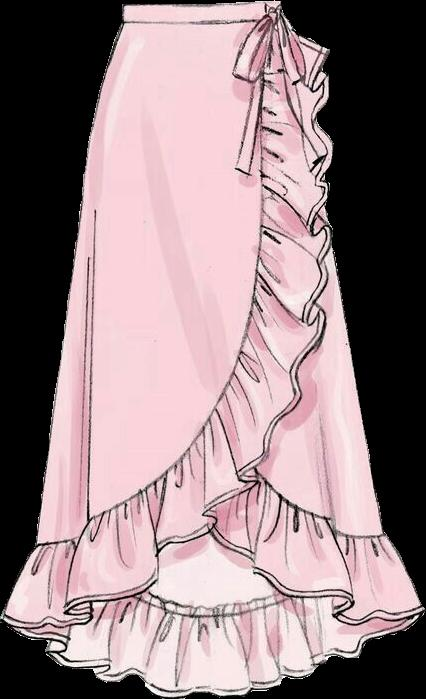Hemline: (0, 23, 330, 631), (211, 528, 424, 624)
Waistline: (30, 19, 270, 548), (210, 409, 386, 539), (118, 9, 284, 31), (119, 0, 281, 10)
